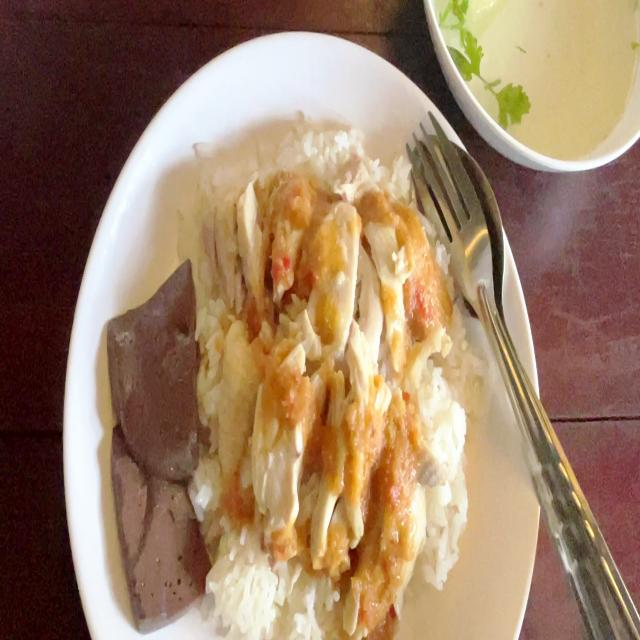boiled_chicken: (202, 185, 420, 563)
boiled_chicken_blood_jelly: (108, 260, 195, 488), (102, 424, 200, 610)
chicken_rice: (100, 113, 468, 640)
